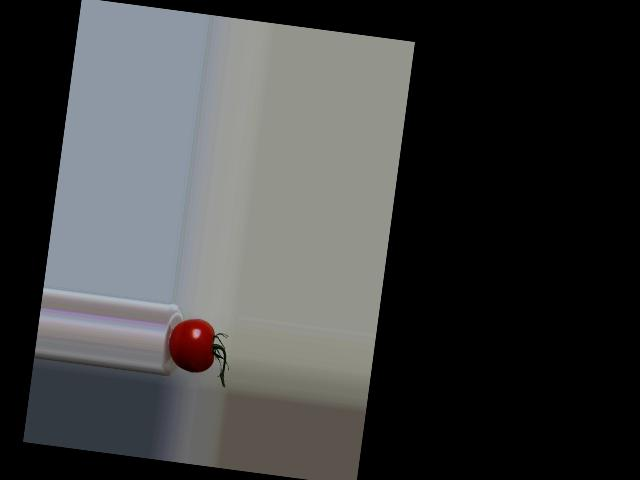tomato: (165, 316, 218, 375)
